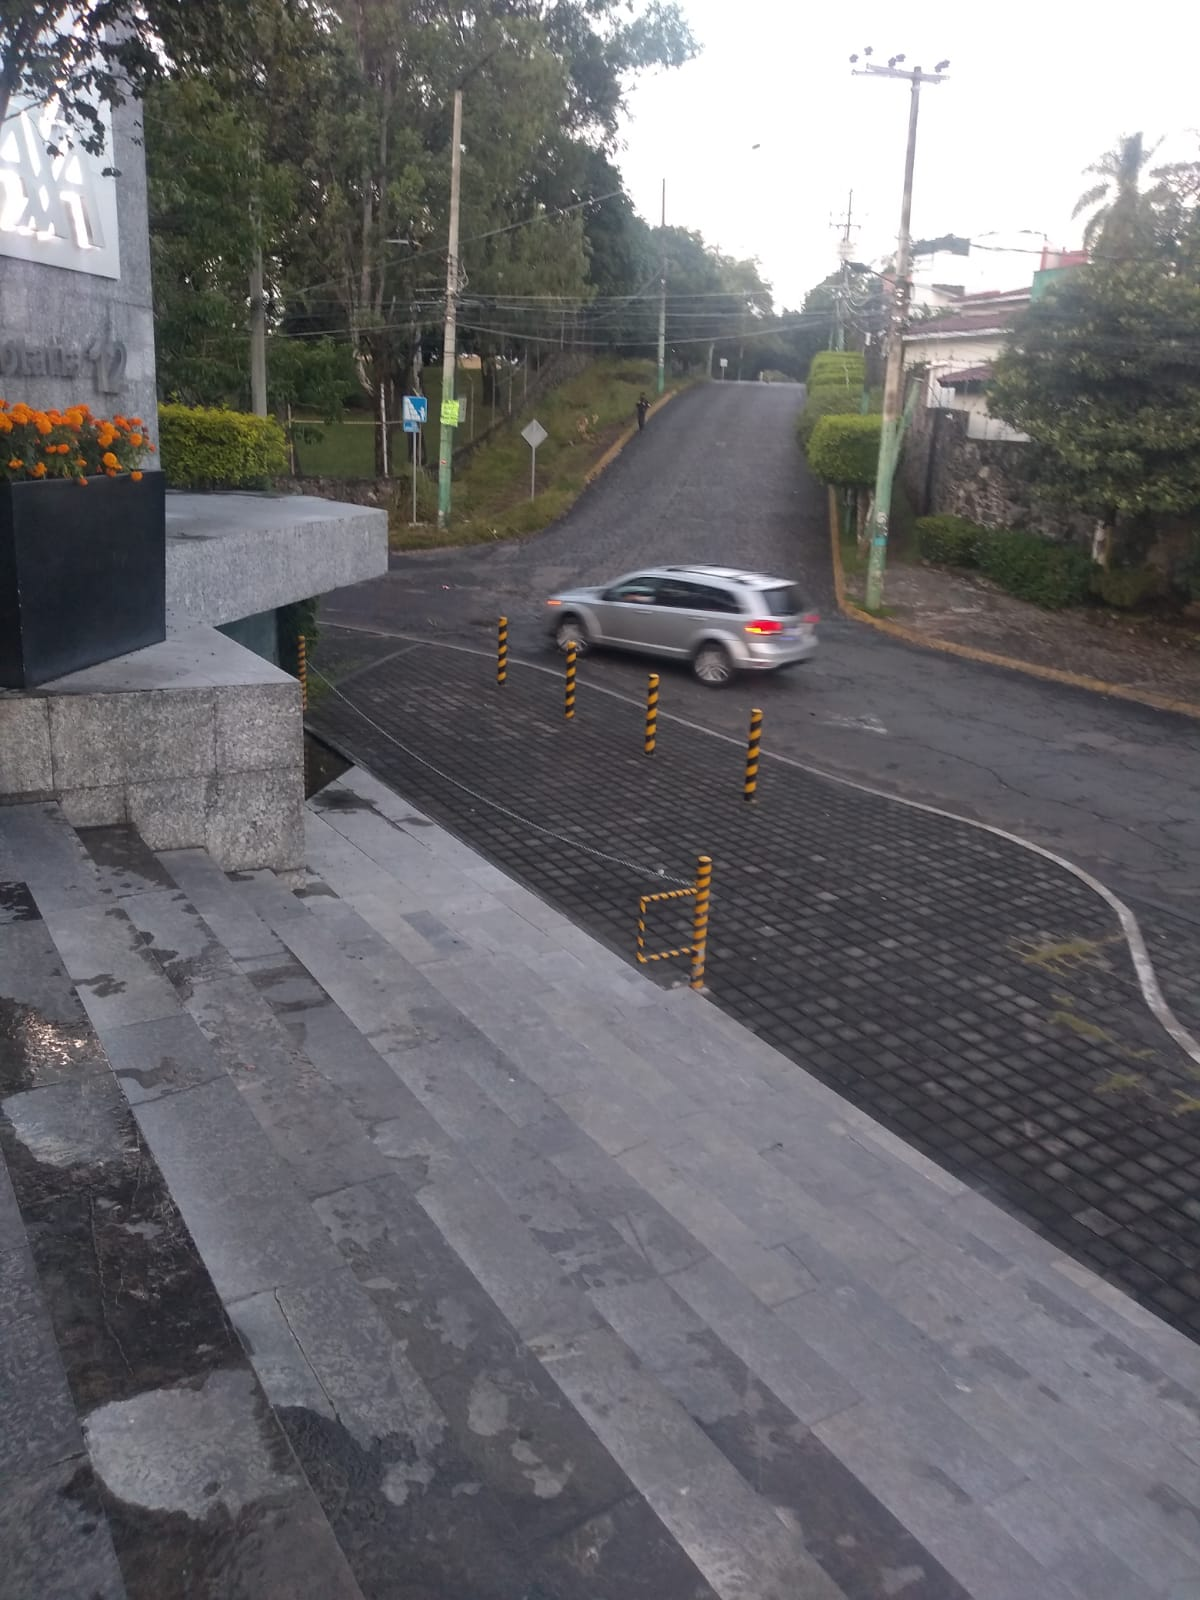Auto: (543, 556, 821, 687)
